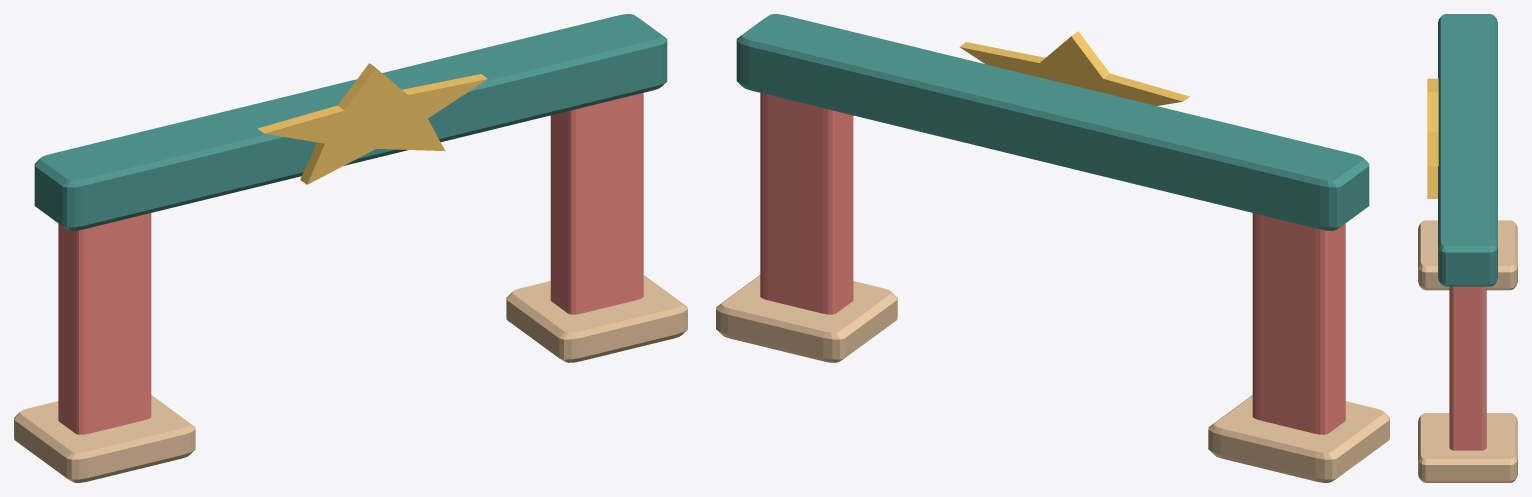
The model's file is gate_start.glb.
The picture shows the model from 3 angles, left to right: view 1: azimuth 30°, elevation 25°; view 2: azimuth 150°, elevation 25°; view 3: azimuth 270°, elevation 25°; orthographic projection. The views are drawn at different scales.
Parts seen in each view (by area): view 1: model, header; view 2: model, header; view 3: header, model.
Part boxes in pixels (x1,y1,x2,y2): model: (14, 63, 687, 482); header: (34, 14, 667, 230); model: (716, 31, 1389, 482); header: (736, 14, 1369, 230); header: (1438, 14, 1497, 286); model: (1418, 78, 1517, 482).
Bounding box in the file's own units: 2.3 × 1.2 × 0.4.
